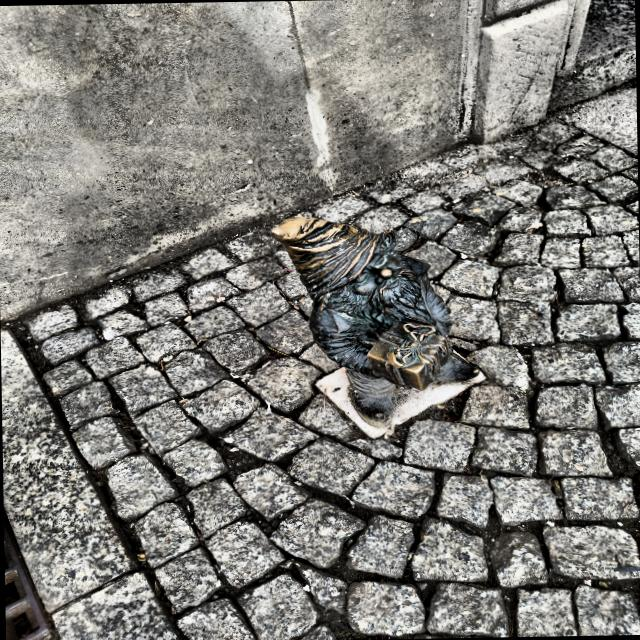Suvenirek: (272, 217, 484, 428)
